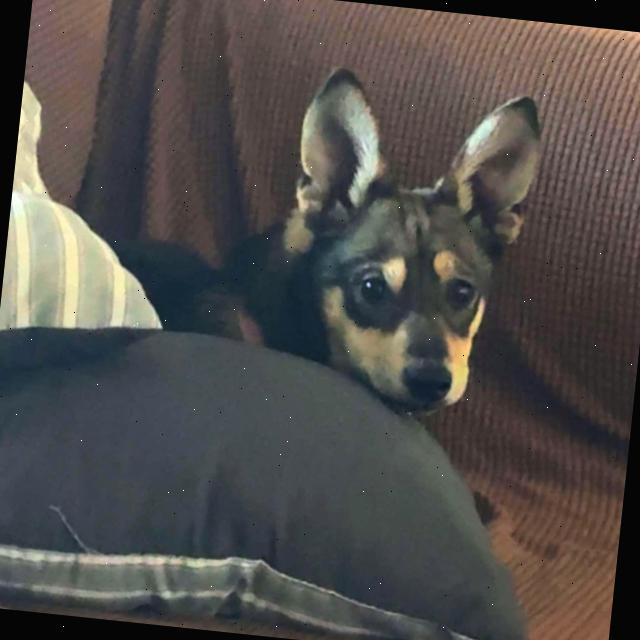corgi_dog: (235, 35, 588, 462)
